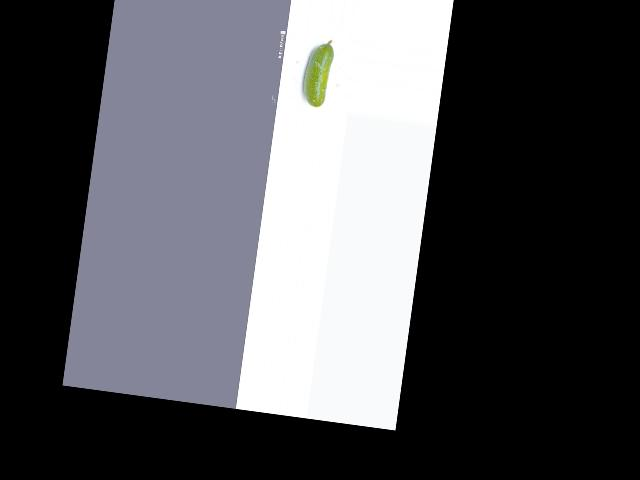cucumber: (300, 37, 335, 109)
